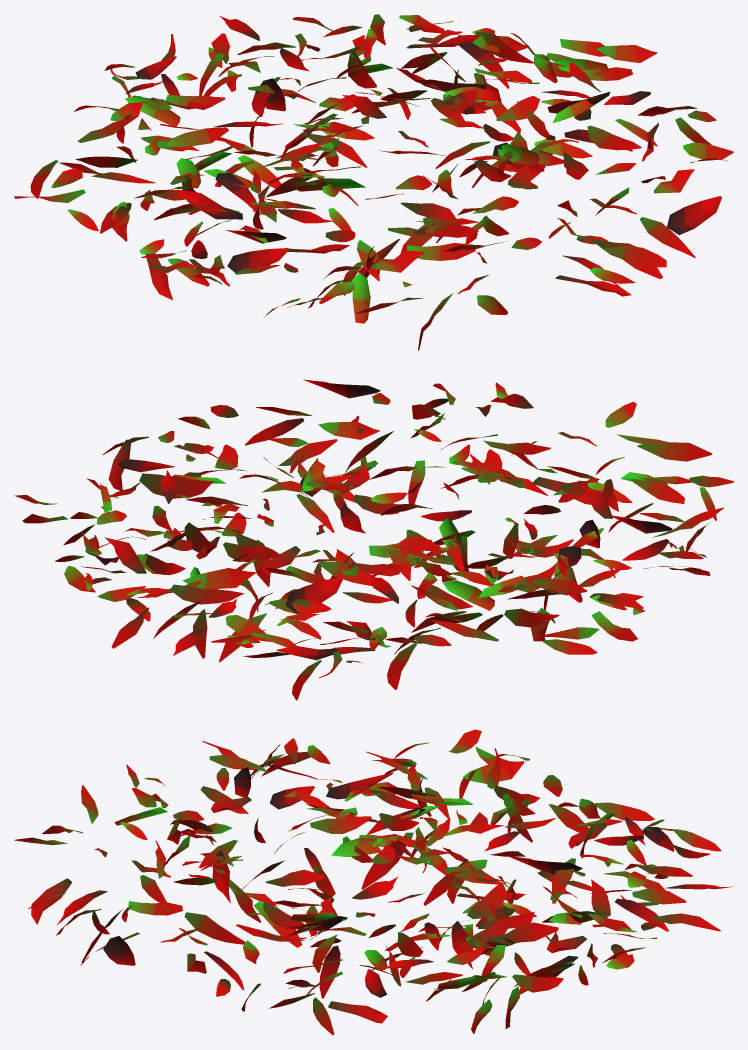
Rendered from Var1_LOD1.fbx.
The picture shows the model from 3 angles, top to bottom: view 1: azimuth 30°, elevation 25°; view 2: azimuth 150°, elevation 25°; view 3: azimuth 270°, elevation 25°; orthographic projection. The views are drawn at different scales.
Parts seen in each view (by area): view 1: _9fa0_Var1_LOD1; view 2: _9fa0_Var1_LOD1; view 3: _9fa0_Var1_LOD1.
Part boxes in pixels (box(x1,y1,x2,y2)): _9fa0_Var1_LOD1: box(14, 14, 733, 350); _9fa0_Var1_LOD1: box(14, 379, 733, 700); _9fa0_Var1_LOD1: box(14, 729, 732, 1035).
Bounding box in the file's own units: 114 × 8.38 × 118.
